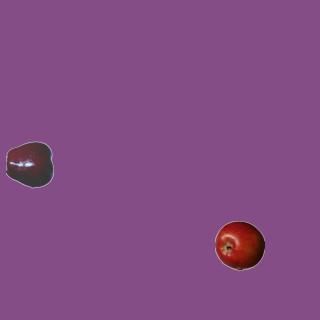Apple Braeburn: (214, 220, 264, 270)
Apple Red Delicious: (5, 139, 55, 189)
